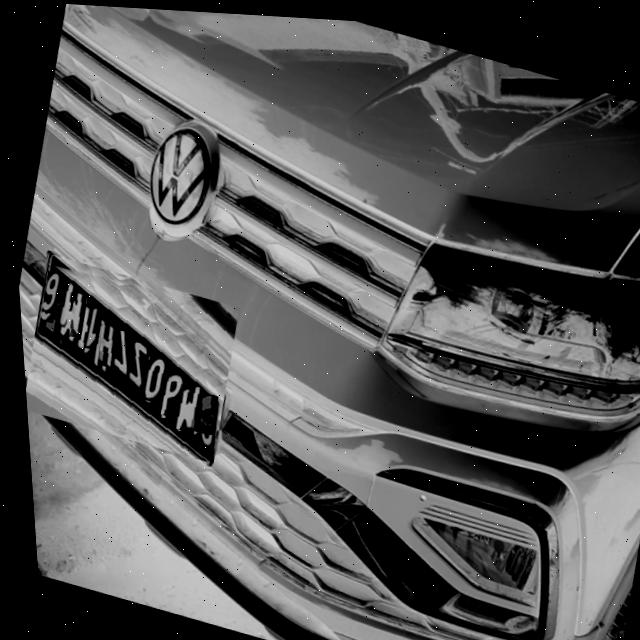0: (135, 354, 163, 402)
1: (59, 291, 86, 340), (77, 303, 100, 349)
7: (117, 339, 147, 392)
8: (48, 280, 73, 329)
9: (35, 269, 59, 315)
H: (86, 314, 115, 366)
IND: (185, 389, 215, 433)
Indian_registered: (30, 262, 212, 461)
M: (166, 380, 199, 432)
P: (152, 369, 180, 417)
Z: (102, 327, 133, 381)
